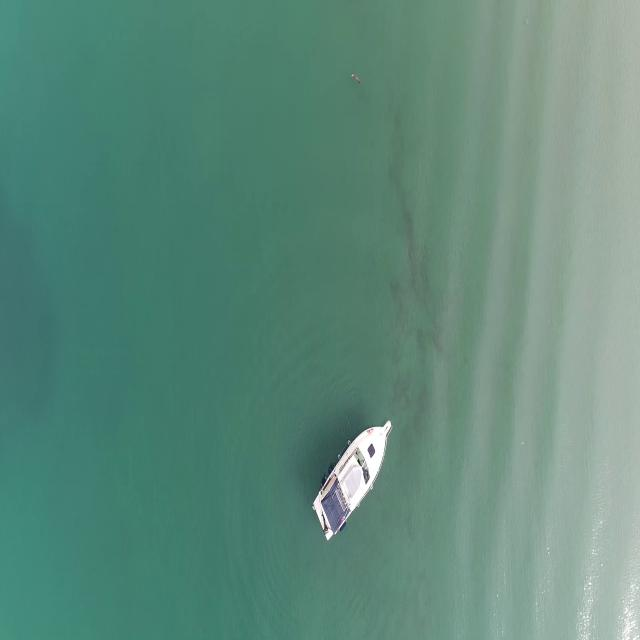boat: (314, 416, 391, 548)
wood: (351, 72, 363, 86)
